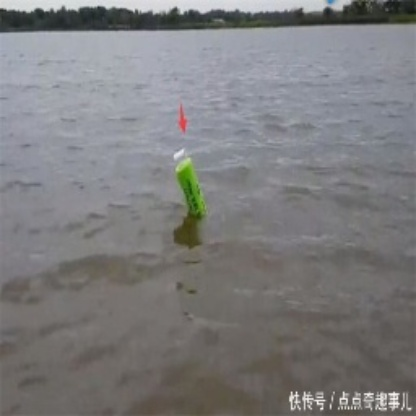bottle: (168, 144, 211, 219)
